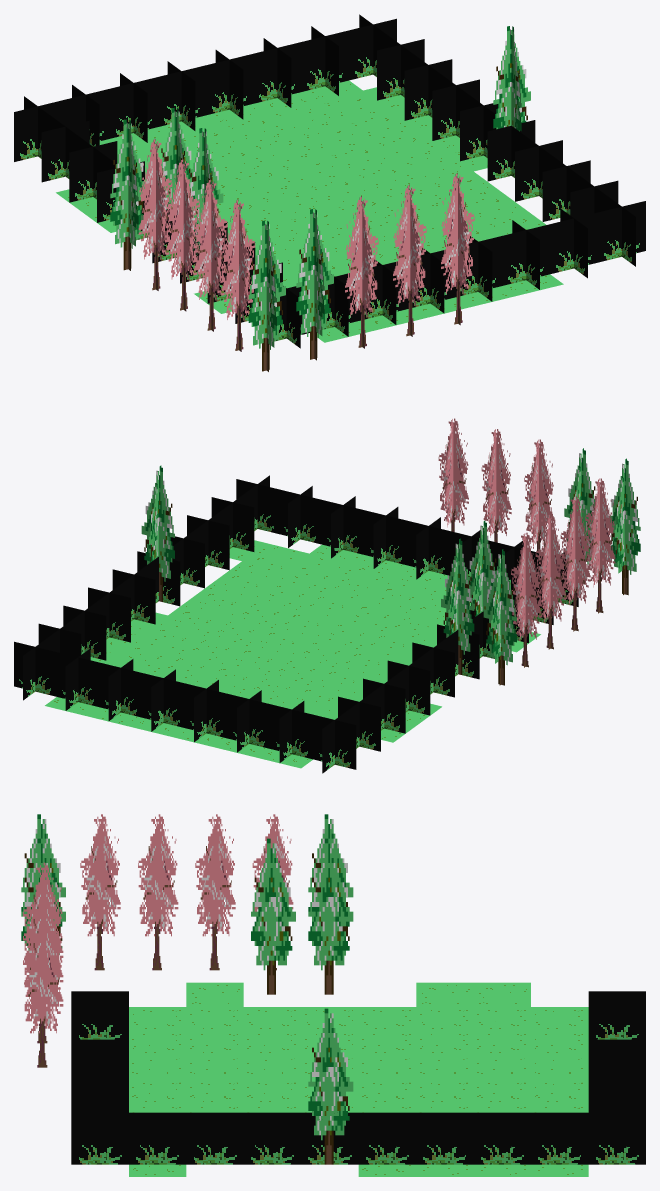
Rendered from BlockTile_1781987312.glb.
The picture shows the model from 3 angles, top to bottom: view 1: azimuth 30°, elevation 25°; view 2: azimuth 150°, elevation 25°; view 3: azimuth 270°, elevation 25°; orthographic projection. The views are drawn at different scales.
Visible parts, largest first — view 1: loose, group_E4514E15, group_4EDB1E70, group_E43683E4, group_FE9970FC, group_7C3EE4CF, group_27B03171, group_87F28296, group_6C17BF0F, group_6E913671, group_4927A166, group_99BCF664 (+29 smaller); view 2: loose, group_E43683E4, group_E4514E15, group_3CF487F3, group_BA0E96B3, group_6C17BF0F, group_4927A166, group_7C3EE4CF, group_27B03171, group_6E913671, group_00CA5B0C, group_1A4CC0F3 (+31 smaller); view 3: loose, group_BA0E96B3, group_3CF487F3, group_711D7FB3, group_6E913671, group_6C17BF0F, group_7C3EE4CF, group_4927A166, group_B52BC53C, group_C197CD28, group_4253EEBA, group_5EF48942 (+20 smaller).
Part boxes in pixels (x1,y1,x2,y2): loose: [56, 80, 563, 342]; group_E4514E15: [248, 220, 285, 371]; group_4EDB1E70: [296, 209, 333, 360]; group_E43683E4: [110, 119, 144, 270]; group_FE9970FC: [393, 184, 426, 336]; group_7C3EE4CF: [194, 179, 227, 331]; group_27B03171: [138, 138, 172, 290]; group_87F28296: [345, 196, 378, 348]; group_6C17BF0F: [166, 159, 199, 311]; group_6E913671: [441, 173, 474, 325]; group_4927A166: [221, 199, 255, 351]; group_99BCF664: [253, 38, 301, 107]; loose: [45, 540, 540, 768]; group_E43683E4: [483, 549, 516, 685]; group_E4514E15: [610, 458, 640, 595]; group_3CF487F3: [441, 538, 474, 674]; group_BA0E96B3: [141, 465, 174, 601]; group_6C17BF0F: [535, 514, 565, 649]; group_4927A166: [585, 478, 615, 613]; group_7C3EE4CF: [560, 496, 590, 631]; group_27B03171: [511, 532, 541, 667]; group_6E913671: [438, 418, 468, 531]; group_00CA5B0C: [313, 711, 356, 773]; group_1A4CC0F3: [56, 648, 99, 710]; loose: [129, 982, 588, 1176]; group_BA0E96B3: [308, 1008, 353, 1164]; group_3CF487F3: [308, 838, 353, 994]; group_711D7FB3: [251, 838, 295, 994]; group_6E913671: [23, 911, 63, 1067]; group_6C17BF0F: [195, 814, 235, 970]; group_7C3EE4CF: [138, 814, 178, 970]; group_4927A166: [80, 814, 120, 970]; group_B52BC53C: [243, 1112, 301, 1164]; group_C197CD28: [358, 1112, 416, 1164]; group_4253EEBA: [186, 1112, 243, 1164]; group_5EF48942: [71, 1112, 128, 1164].
Bounding box in the file's own units: 9 × 3 × 11.
Materials: 4 (4 with a texture image).
